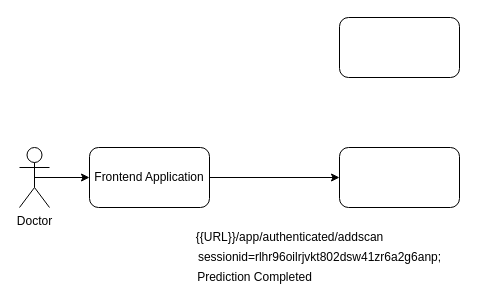
The diagram is 477 pixels wide and 305 high, and some of its shapes have lost their labels. The centre of each missing label's shape, as x and y in pixels:
Information Service: the point at 399,177
Prediction Service: the point at 399,47
